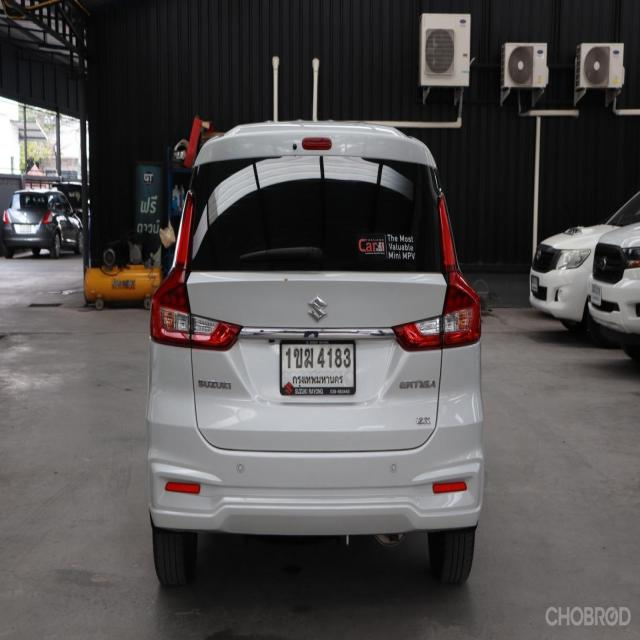license_plate: (279, 337, 357, 398), (589, 279, 604, 306), (18, 221, 32, 236), (531, 271, 539, 297)
